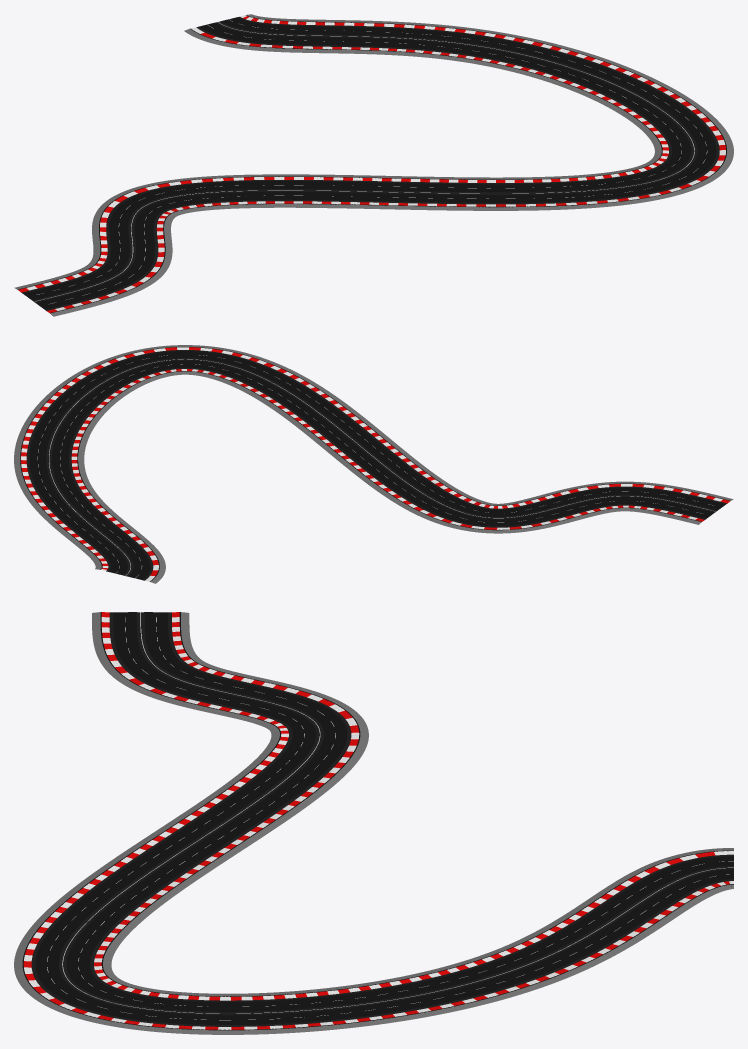
Rendered from S0.1c1h0-enn.glb.
3 renders of one model, top to bottom at view 1: azimuth 30°, elevation 25°; view 2: azimuth 150°, elevation 25°; view 3: azimuth 270°, elevation 25°, orthographic. The views are drawn at different scales.
Parts seen in each view (by area): view 1: Grid; view 2: Grid; view 3: Grid.
Part boxes in pixels (x1,y1,x2,y2): Grid: (14,14,733,316); Grid: (14,345,733,583); Grid: (14,612,733,1034).
Size of the model in its own units: 256 by 0.31 by 185.
